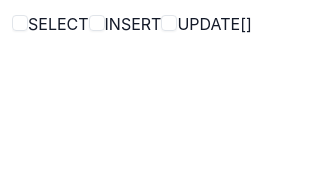
Test: Checkbox (MCQ multi-select interaction) › deselects a previously selected option on second click
This screenshot has width=332, height=172.
Click the checkbox next to "SELECT" at x=20, y=23, box [12,15,28,31]
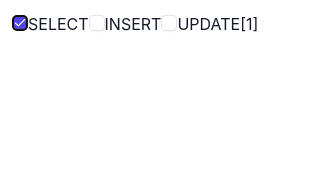
Click the checkbox next to "INSERT" at x=97, y=23, box [89,15,105,31]
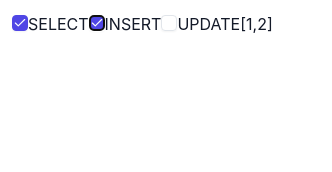
Click the checkbox next to "SELECT" at x=20, y=23, box [12,15,28,31]
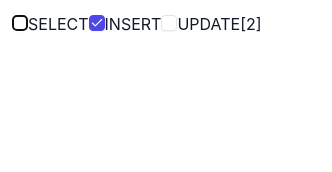
Result: the text with test id "selection" reads "[2]" at [240,14,262,34]
